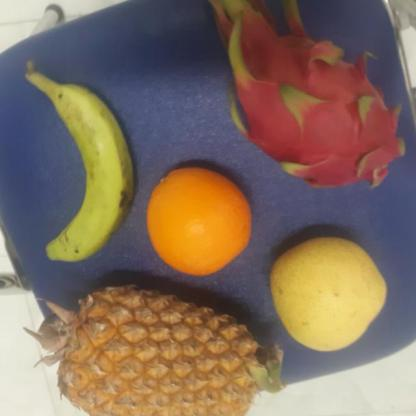banana: (39, 80, 138, 257)
guava: (268, 238, 390, 349)
pineapple: (57, 278, 276, 416)
pitaya: (230, 42, 412, 186)
